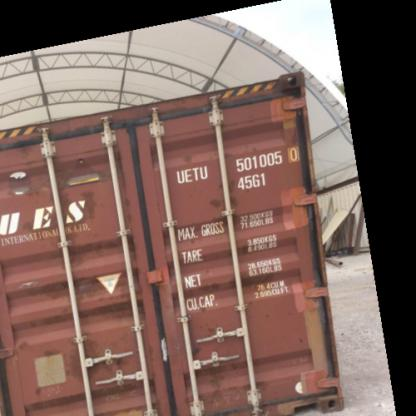Damage: (42, 193, 104, 268), (58, 330, 132, 374), (50, 271, 137, 303), (203, 369, 266, 410), (204, 273, 282, 296)
